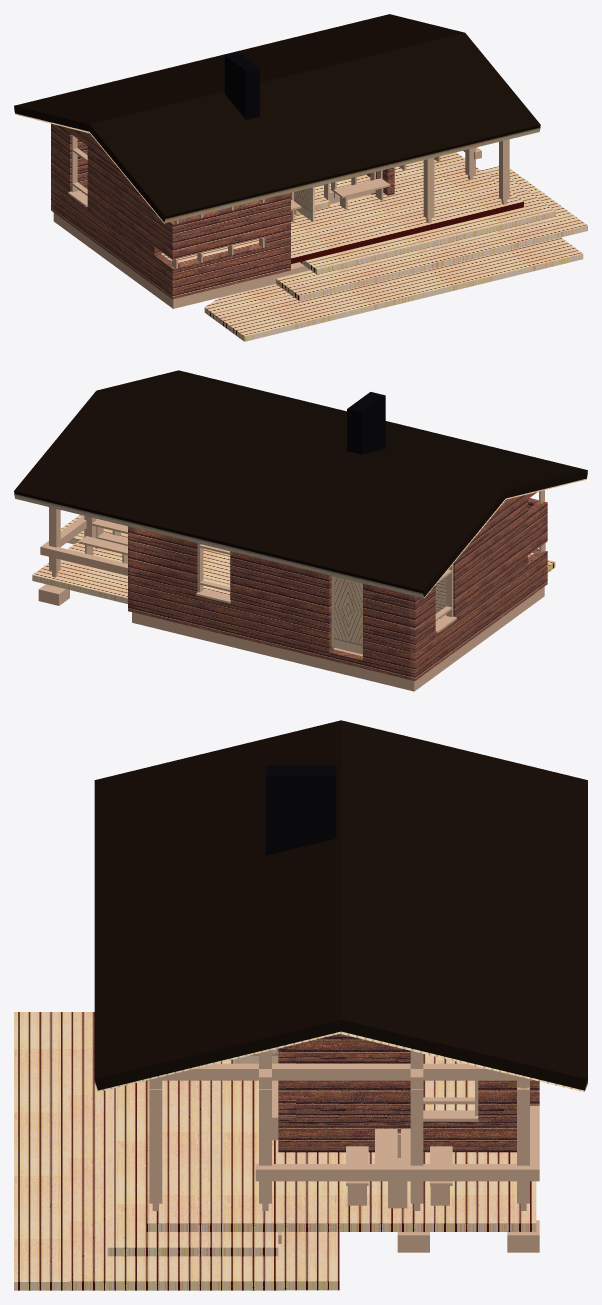
Rendered from sauna.FBX.
3 views of the same model, one above another, from view 1: azimuth 30°, elevation 25°; view 2: azimuth 150°, elevation 25°; view 3: azimuth 270°, elevation 25° (orthographic). The views are drawn at different scales.
Visible parts, largest first — view 1: ROOF01, FLR01, RUNKO01, TRIMS01, PLINTH01, CLG01, HORMI01, WIN01, IKK01, DRWIN02; view 2: ROOF01, RUNKO01, PLINTH01, FLR01, TRIMS01, CLG01, DRSOLID01, HORMI01, WIN01; view 3: ROOF01, FLR01, TRIMS01, RUNKO01, HORMI01, PLINTH01, CLG01, WIN01.
Boxes of the visible parts, <box> form: ROOF01: <box>14,14,540,222</box>; FLR01: <box>80,152,587,341</box>; RUNKO01: <box>51,123,394,299</box>; TRIMS01: <box>172,139,509,268</box>; PLINTH01: <box>53,194,371,308</box>; CLG01: <box>14,108,540,223</box>; HORMI01: <box>224,52,259,119</box>; WIN01: <box>68,134,87,206</box>; IKK01: <box>291,170,382,203</box>; DRWIN02: <box>294,187,314,221</box>; ROOF01: <box>14,370,587,597</box>; RUNKO01: <box>128,492,547,680</box>; PLINTH01: <box>38,584,544,691</box>; FLR01: <box>32,514,555,621</box>; TRIMS01: <box>40,490,545,577</box>; CLG01: <box>14,473,587,598</box>; DRSOLID01: <box>331,576,362,654</box>; HORMI01: <box>347,392,385,454</box>; WIN01: <box>196,543,456,633</box>; ROOF01: <box>94,720,587,1090</box>; FLR01: <box>14,1012,536,1290</box>; TRIMS01: <box>147,1050,539,1210</box>; RUNKO01: <box>278,1034,539,1152</box>; HORMI01: <box>265,765,336,855</box>; PLINTH01: <box>278,1220,539,1252</box>; CLG01: <box>94,1031,587,1091</box>; WIN01: <box>423,1080,478,1121</box>.
Bounding box in the file's own units: 12125 × 8901 × 5450.
11 materials, 4 textured.
